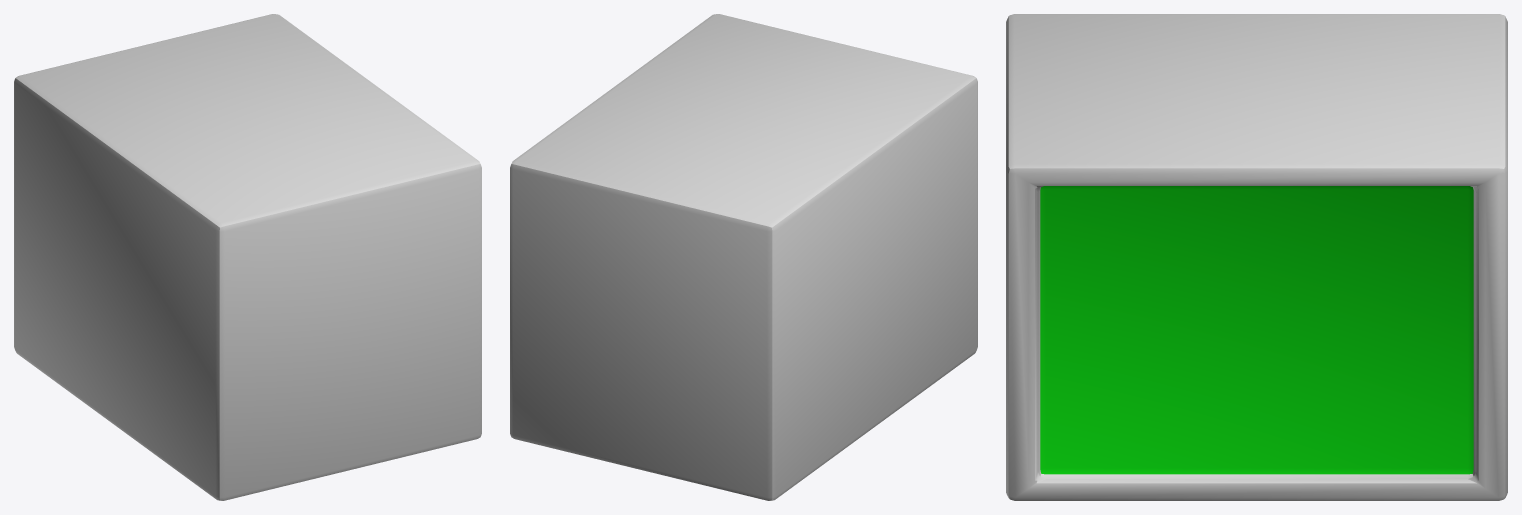
Rendered from Bot Face.fbx.
The picture shows the model from 3 angles, left to right: view 1: azimuth 30°, elevation 25°; view 2: azimuth 150°, elevation 25°; view 3: azimuth 270°, elevation 25°; orthographic projection. The views are drawn at different scales.
Parts seen in each view (by area): view 1: Bot Face; view 2: Bot Face; view 3: Bot Face.
Part boxes in pixels (x1=…): Bot Face: x1=14, y1=14, x2=481, y2=500; Bot Face: x1=510, y1=14, x2=977, y2=500; Bot Face: x1=1006, y1=14, x2=1507, y2=500.
Size of the model in its own units: 148 by 148 by 200.
